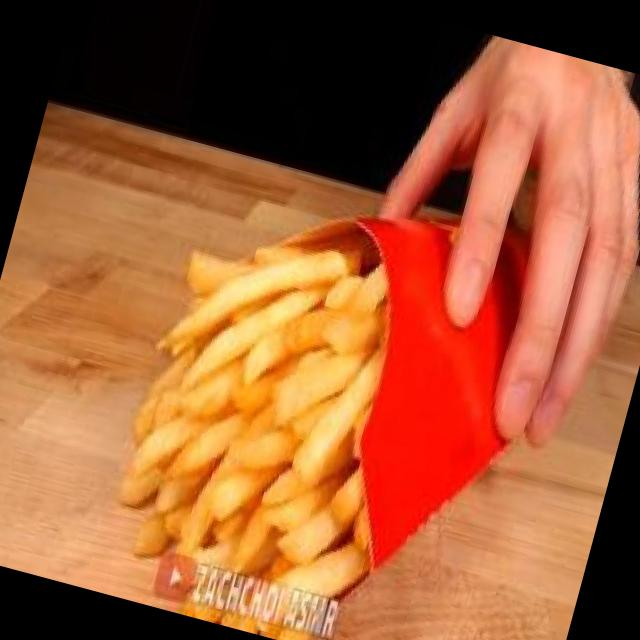french fries: (55, 99, 520, 640)
